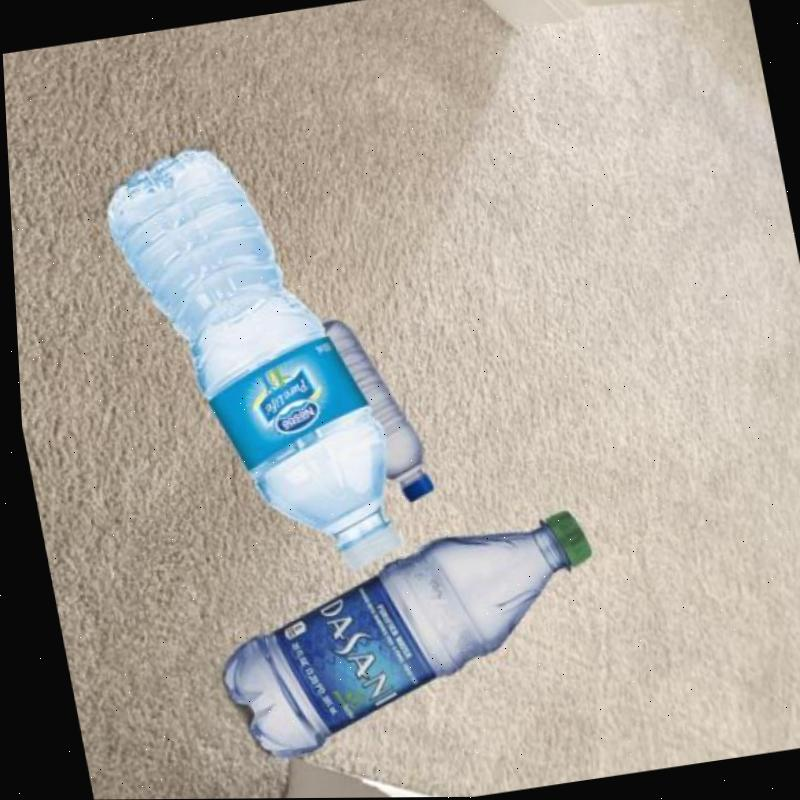botella: (90, 130, 406, 593), (193, 505, 617, 767), (319, 310, 429, 509)
